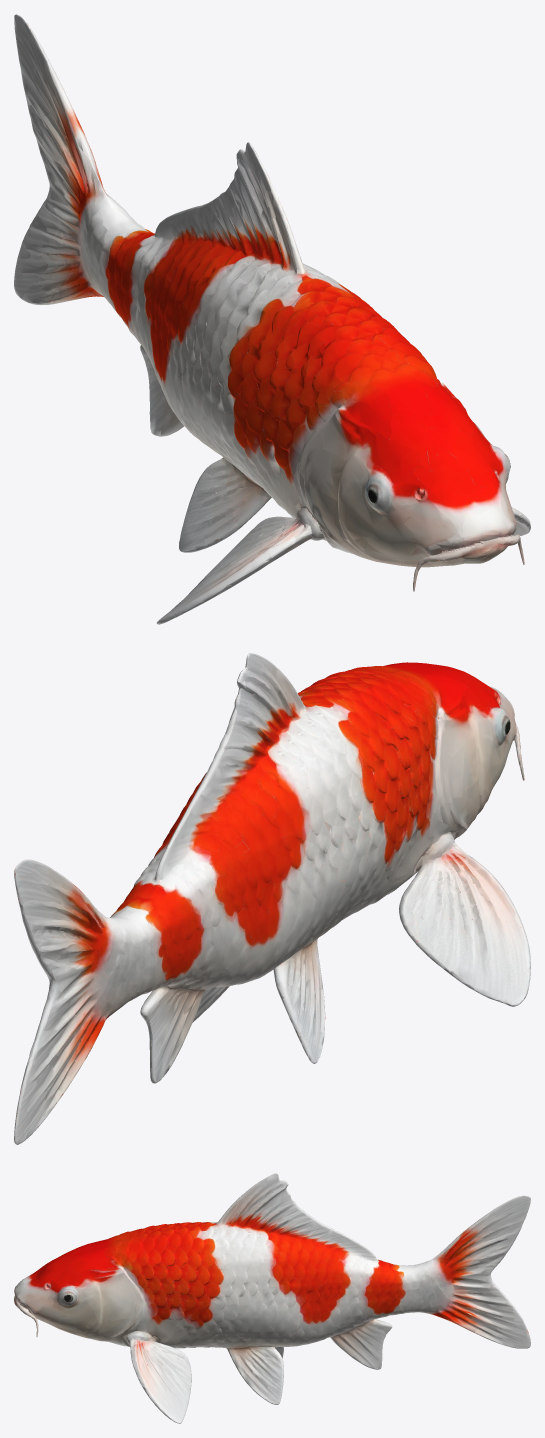
File: koi.glb
3 renders of one model, top to bottom at view 1: azimuth 30°, elevation 25°; view 2: azimuth 150°, elevation 25°; view 3: azimuth 270°, elevation 25°, orthographic. The views are drawn at different scales.
Visible parts, largest first — view 1: Mesh_0; view 2: Mesh_0; view 3: Mesh_0.
Boxes of the visible parts, x1,y1,x2,y2 form: Mesh_0: (14,14,530,624); Mesh_0: (14,653,530,1144); Mesh_0: (14,1173,530,1423).
Bounding box in the file's own units: 0.4452 × 0.4564 × 0.9999.
Materials: 1 (1 with a texture image).
